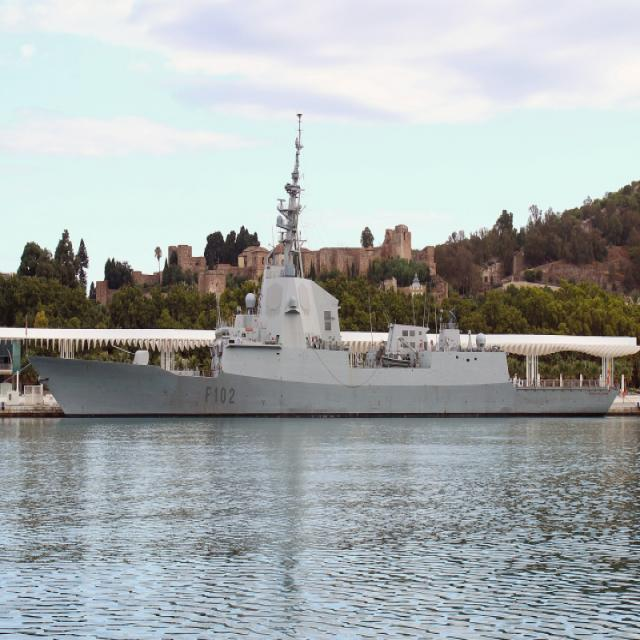Fragata: (26, 113, 623, 425)
